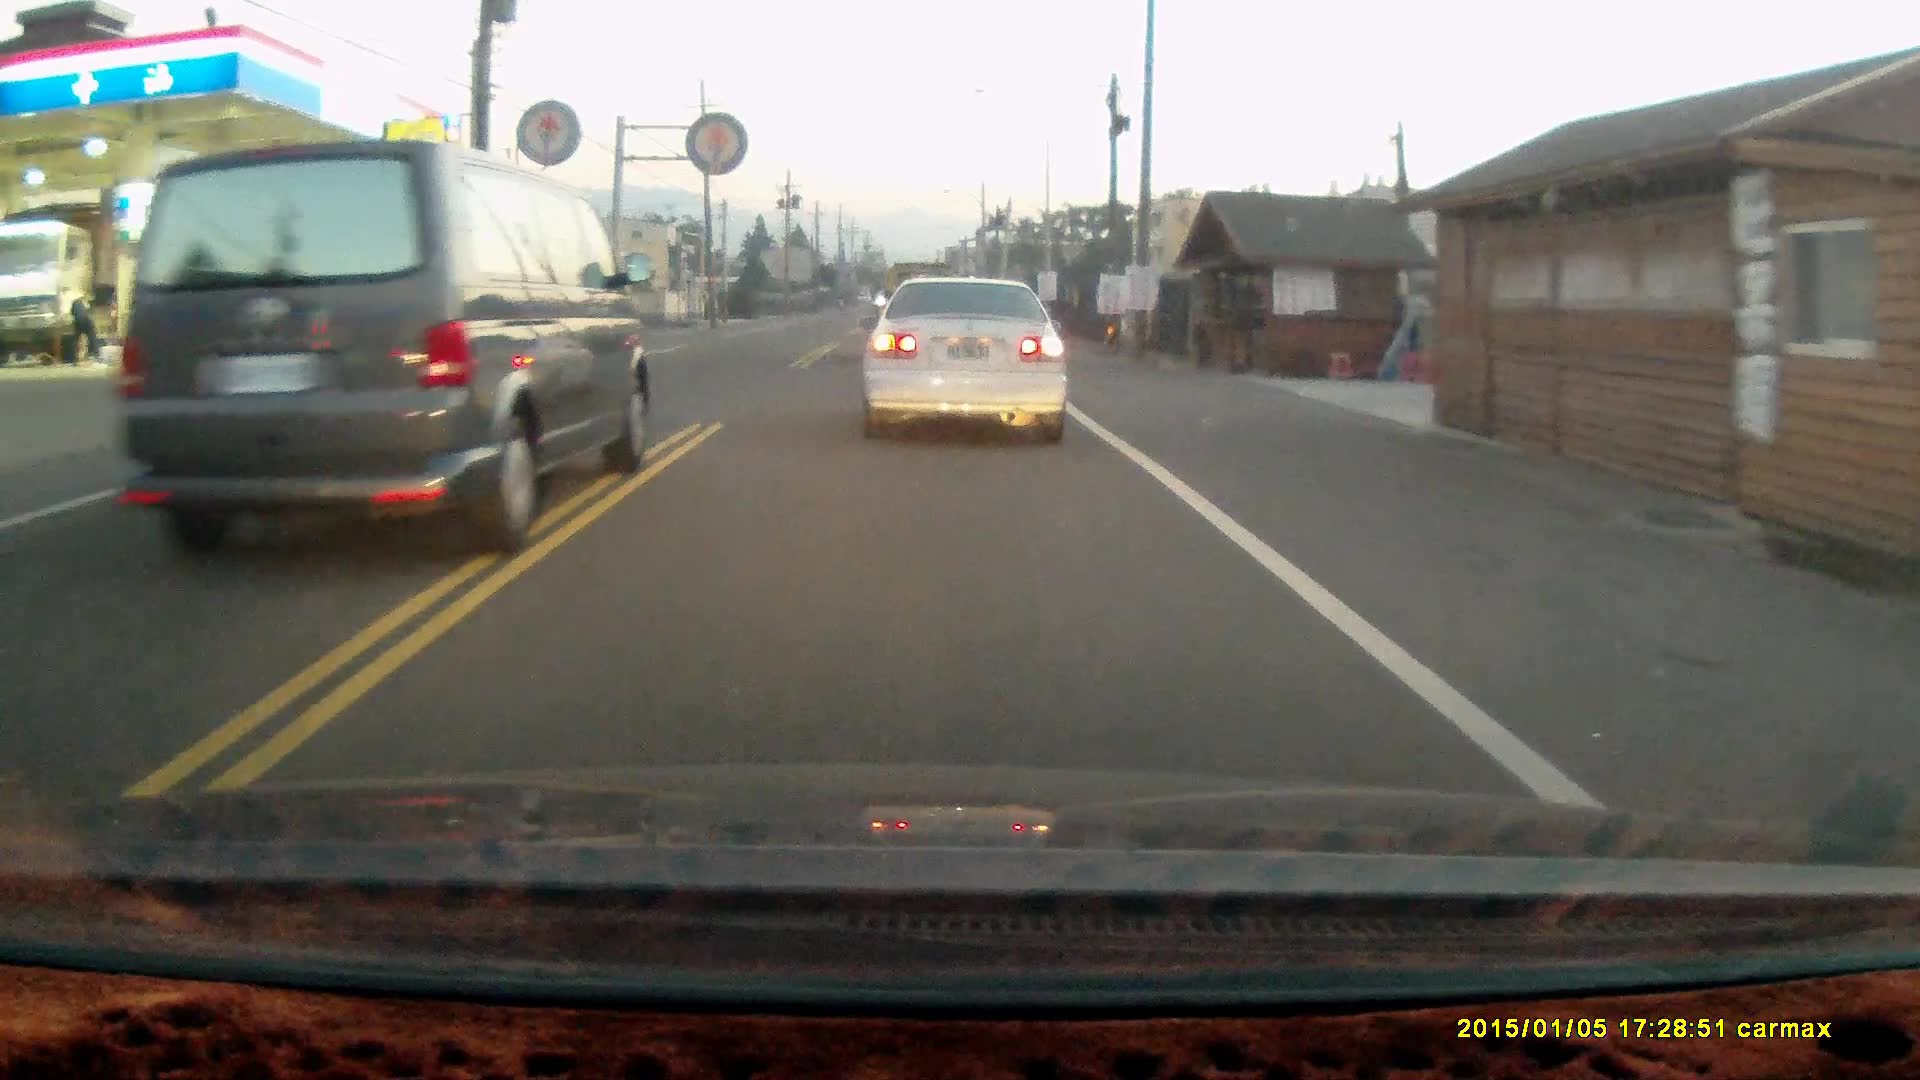pedestrian: (62, 279, 100, 365)
vehicle: (122, 146, 648, 571), (863, 280, 1070, 455), (1, 197, 142, 365)
